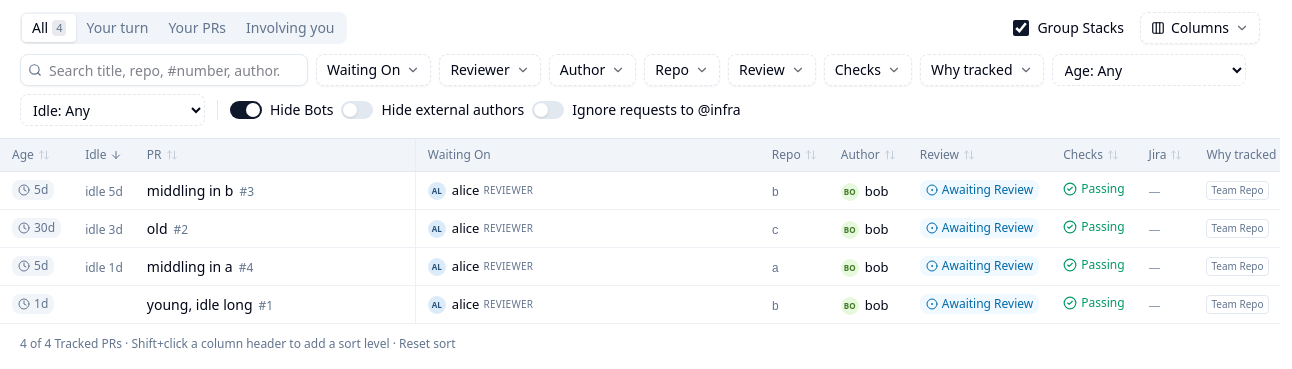
Test: the Table › resets the sort to the default and forgets the saved one
Click the button "Reset sort" at (427, 344), box [399,336,456,352]
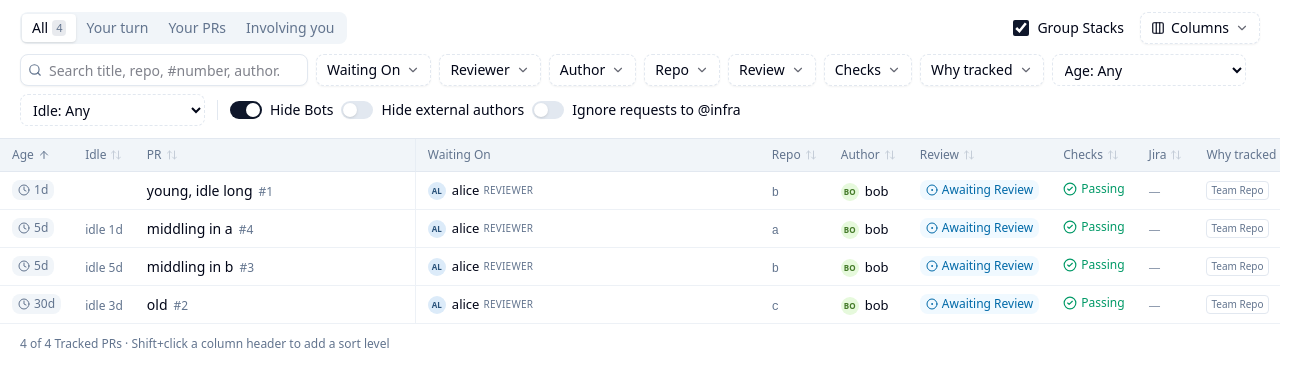
Expected: the button "Reset sort" is gone
